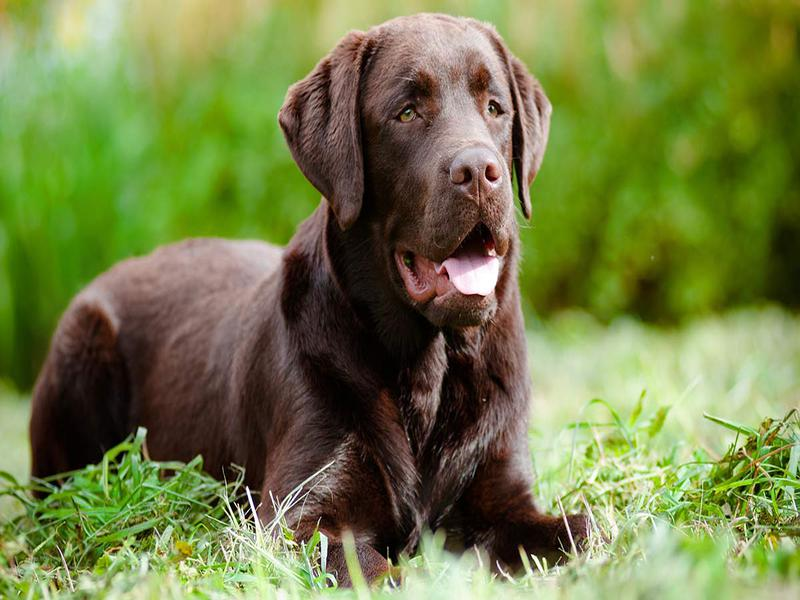dog_down: (27, 12, 604, 583)
